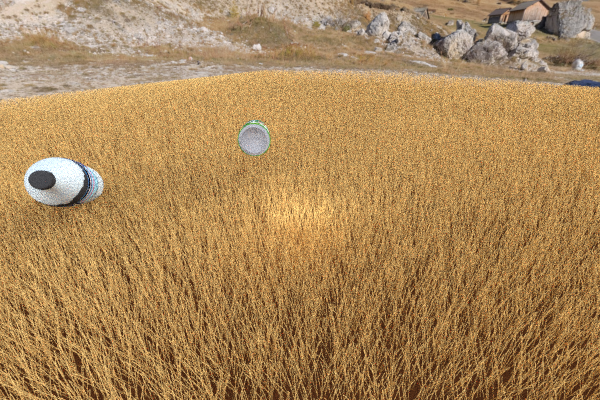Plastic Bottle: (377, 158, 479, 203), (24, 157, 103, 207), (237, 119, 270, 156)
